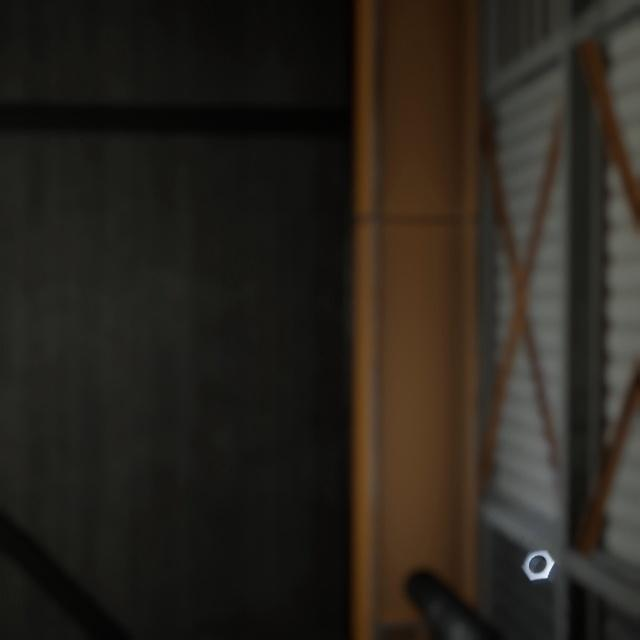nut: (517, 521, 564, 566)
